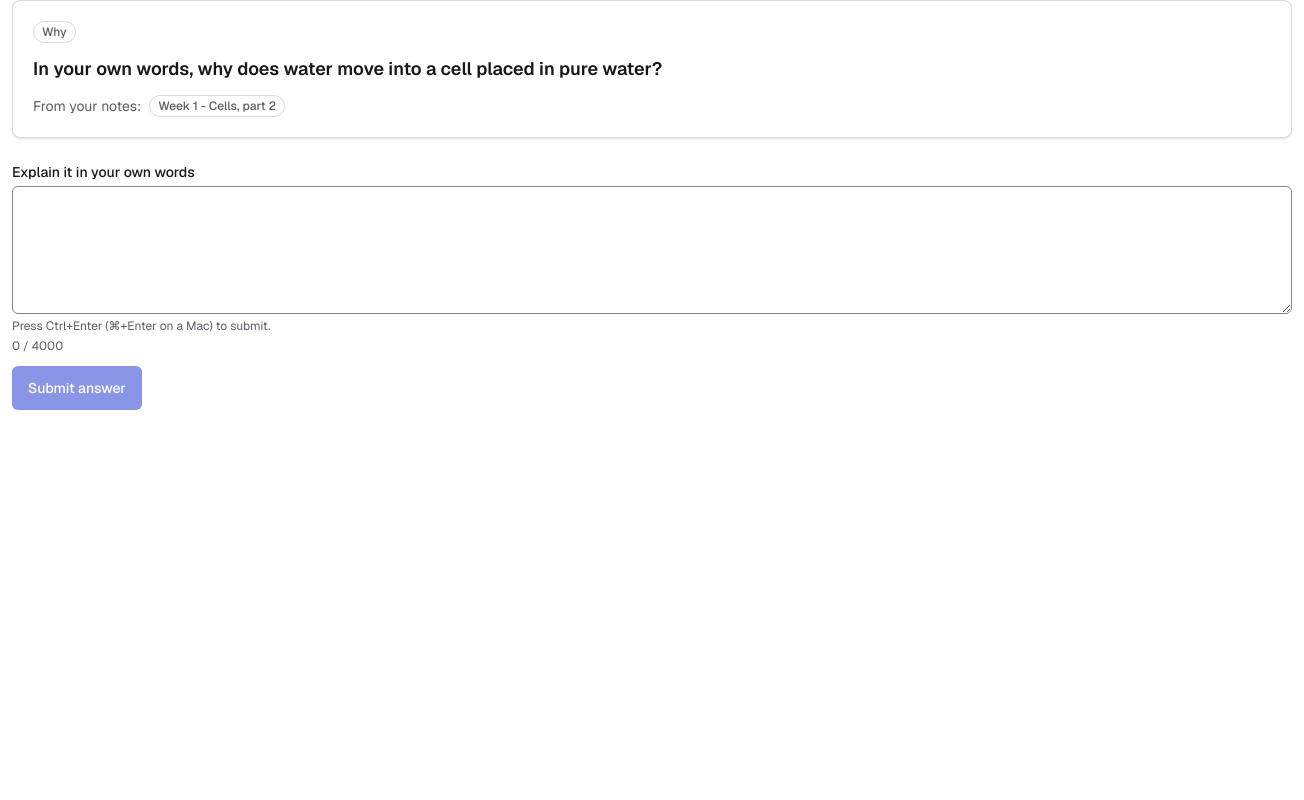
Test: PracticeSession › error states › shows a 429 RATE_LIMITED on answer and keeps the answer
Type "Water moves toward more solute." into the text box labelled "Explain it in your own words" at (652, 250), box [12, 186, 1292, 314]
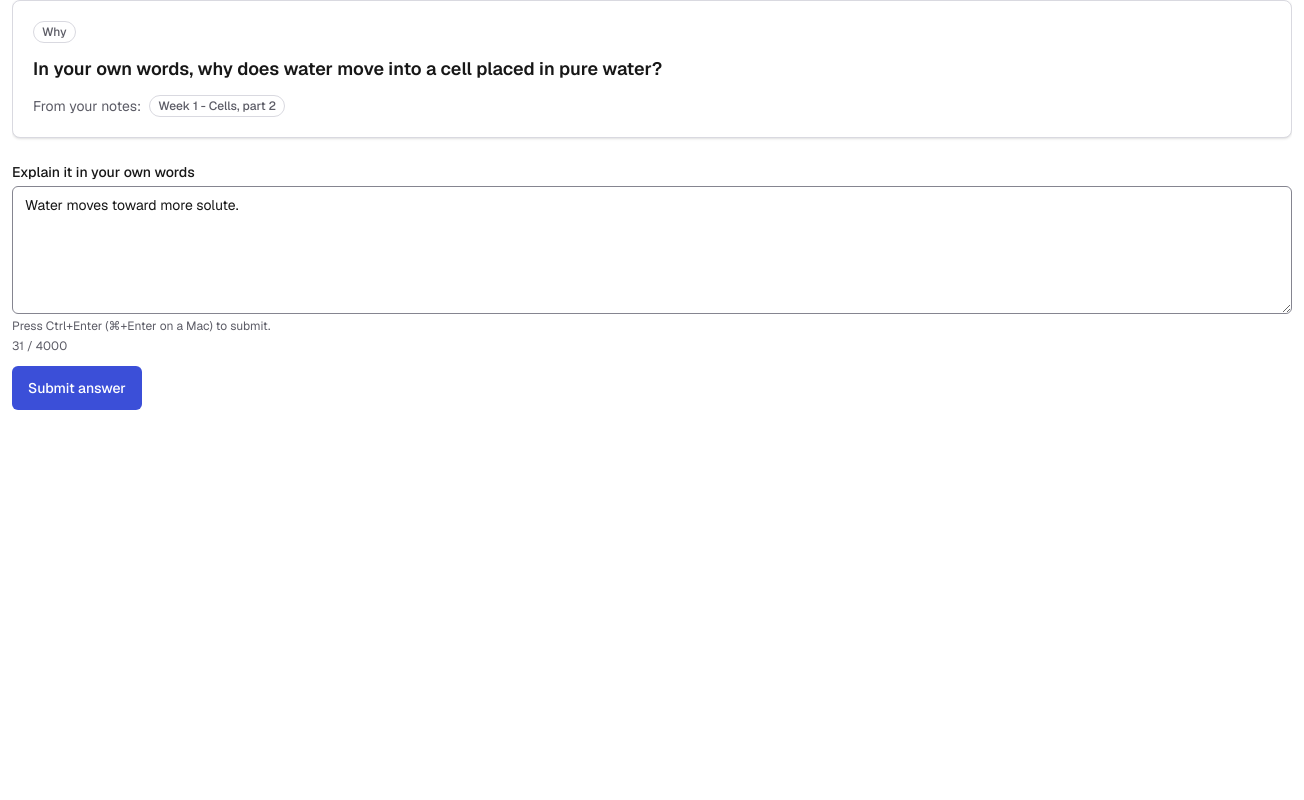
Click the button "Submit answer" at (77, 388), box [12, 366, 142, 410]
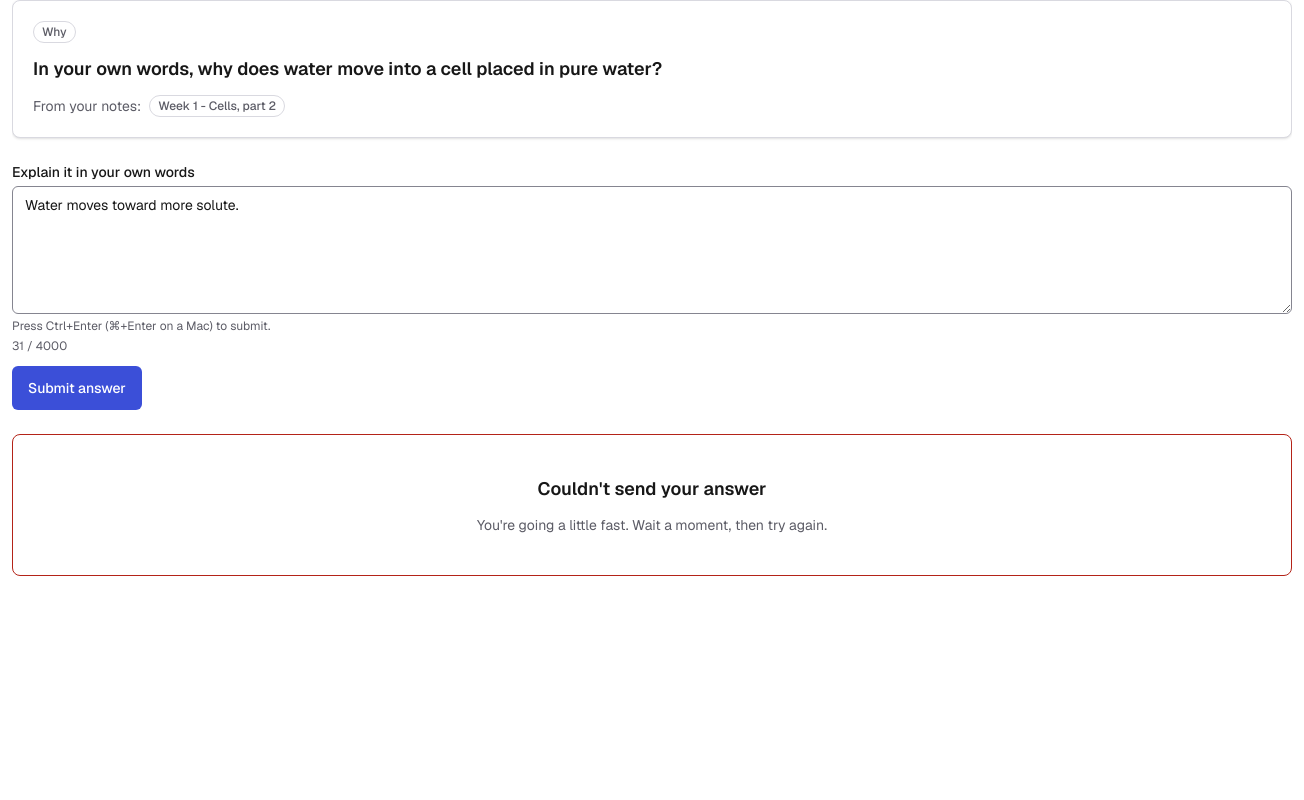
Expected: the button "Submit answer" is enabled, [12, 366, 142, 410]
Expected: the message shows "Couldn't send your answer", [538, 477, 766, 500]
Expected: the message shows "You're going a little fast. Wait a moment, then try again.", [477, 516, 827, 534]
